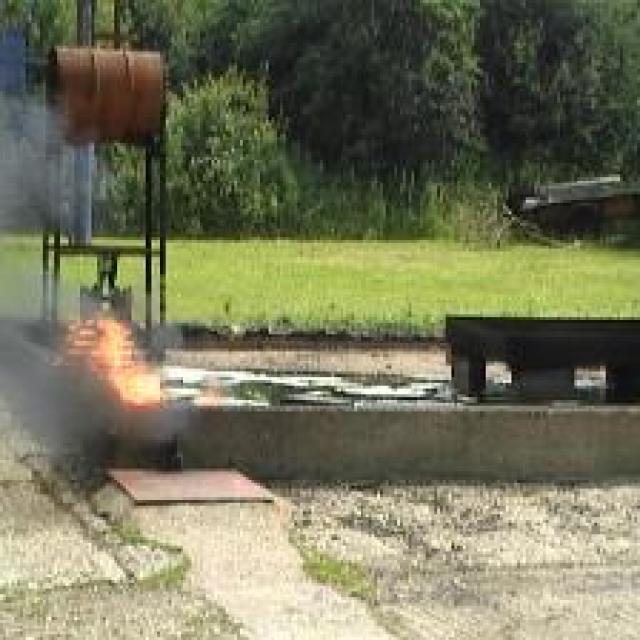Fire: (51, 316, 163, 404)
